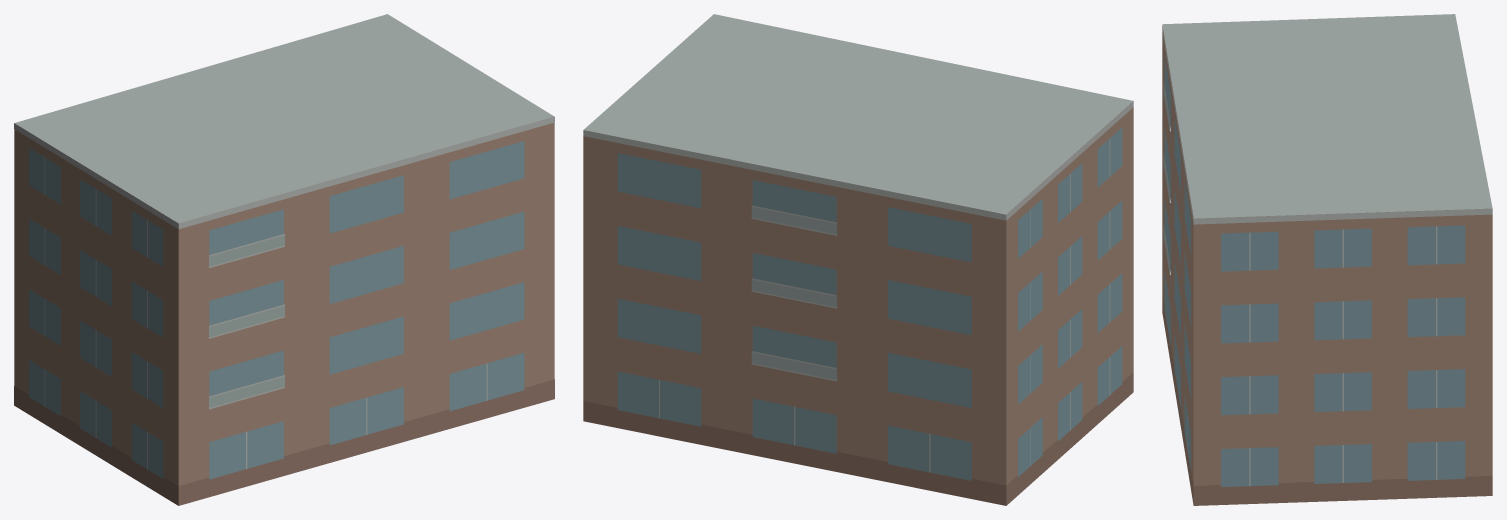
Rendered from survey-upis-32755813.glb.
The picture shows the model from 3 angles, left to right: view 1: azimuth 30°, elevation 25°; view 2: azimuth 150°, elevation 25°; view 3: azimuth 270°, elevation 25°; orthographic projection. The views are drawn at different scales.
Visible parts, largest first — view 1: survey-upis-32755813.tmp; view 2: survey-upis-32755813.tmp; view 3: survey-upis-32755813.tmp.
Part boxes in pixels (<box>): survey-upis-32755813.tmp: <box>14,14,554,505</box>; survey-upis-32755813.tmp: <box>583,14,1133,505</box>; survey-upis-32755813.tmp: <box>1162,14,1492,505</box>.
Size of the model in its own units: 17.87 by 11.7 by 12.2.
